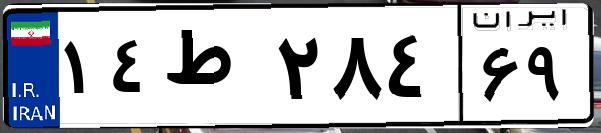1: (57, 26, 110, 100)
2: (270, 28, 330, 110)
4: (385, 28, 445, 110), (110, 28, 158, 98)
6: (475, 38, 525, 113)
8: (330, 28, 385, 110)
9: (525, 38, 570, 115)
ط: (158, 20, 270, 120)
